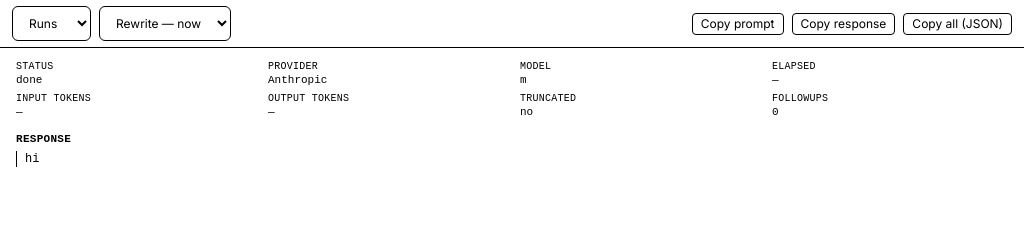
Scenario: OutputTab › switches body to ChatInspector when Chats source is selected
Select "Chats" in the dropdown named "output source" at (52, 24), box [12,6,91,41]
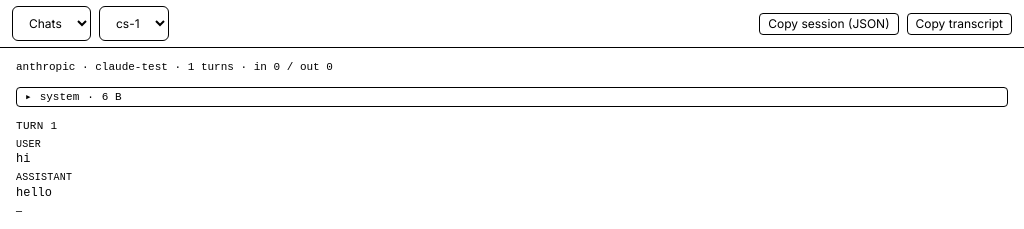
Expected: the text "anthropic · claude-test · 1 turns · in 0 / out 0" is shown, [16,61,333,73]
